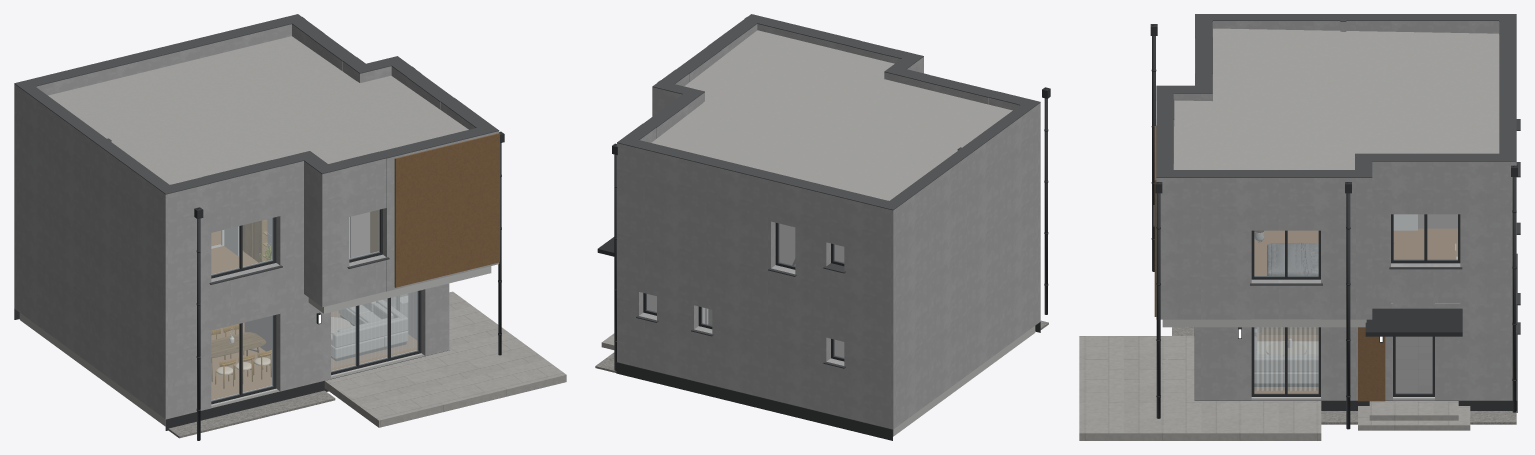
Rendered from house_stano_v3.glb.
3 views of the same model, side by side, from view 1: azimuth 30°, elevation 25°; view 2: azimuth 150°, elevation 25°; view 3: azimuth 270°, elevation 25° (orthographic). The views are drawn at different scales.
Visible parts, largest first — view 1: Shell, accent_clad_S, D1_S_1.09_HS_glass, curtain_sheer_S, D1_S_1.08_glass, W2_S_2.02_glass, W2_S_2.03_glass, D1_S_1.09_HS_frame, Nordic Harmony Wardrobe, sect_back_s, D1_S_1.08_frame, downpipe2 (+4 smaller); view 2: Shell, downpipe2, W2_N_2.06_stair_glass, downpipe0; view 3: Shell, D1_E_terrace_1.09_glass, curtain_sheer_E, W2_E_2.04_glass, W2_E_2.05_glass, canopy, accent_clad_E, downpipe3, downpipe0, downpipe1, sect_back_e, D1_E_terrace_1.09_frame (+8 smaller).
Part boxes in pixels (bbox=[...]): Shell: bbox=[14, 14, 566, 438]; accent_clad_S: bbox=[394, 133, 499, 287]; D1_S_1.09_HS_glass: bbox=[331, 291, 418, 371]; curtain_sheer_S: bbox=[331, 291, 416, 367]; D1_S_1.08_glass: bbox=[211, 316, 273, 401]; W2_S_2.02_glass: bbox=[211, 218, 273, 275]; W2_S_2.03_glass: bbox=[349, 210, 379, 259]; D1_S_1.09_HS_frame: bbox=[331, 290, 421, 375]; Nordic Harmony Wardrobe: bbox=[242, 218, 271, 262]; sect_back_s: bbox=[333, 317, 403, 347]; D1_S_1.08_frame: bbox=[211, 315, 276, 404]; downpipe2: bbox=[197, 208, 200, 440]; Shell: bbox=[595, 14, 1048, 440]; downpipe2: bbox=[1044, 88, 1047, 314]; W2_N_2.06_stair_glass: bbox=[778, 223, 794, 266]; downpipe0: bbox=[614, 144, 616, 370]; Shell: bbox=[1079, 14, 1517, 440]; D1_E_terrace_1.09_glass: bbox=[1254, 327, 1318, 393]; curtain_sheer_E: bbox=[1254, 327, 1318, 390]; W2_E_2.04_glass: bbox=[1254, 231, 1318, 276]; W2_E_2.05_glass: bbox=[1394, 214, 1457, 259]; canopy: bbox=[1365, 308, 1462, 336]; accent_clad_E: bbox=[1358, 327, 1385, 401]; downpipe3: bbox=[1346, 182, 1350, 429]; downpipe0: bbox=[1512, 165, 1516, 412]; downpipe1: bbox=[1156, 182, 1160, 418]; sect_back_e: bbox=[1254, 356, 1318, 371]; D1_E_terrace_1.09_frame: bbox=[1251, 327, 1320, 396].
Size of what is drawn, in the model's own units: 10.98 by 7.18 by 11.4.
Materials: 105 (51 with a texture image).
